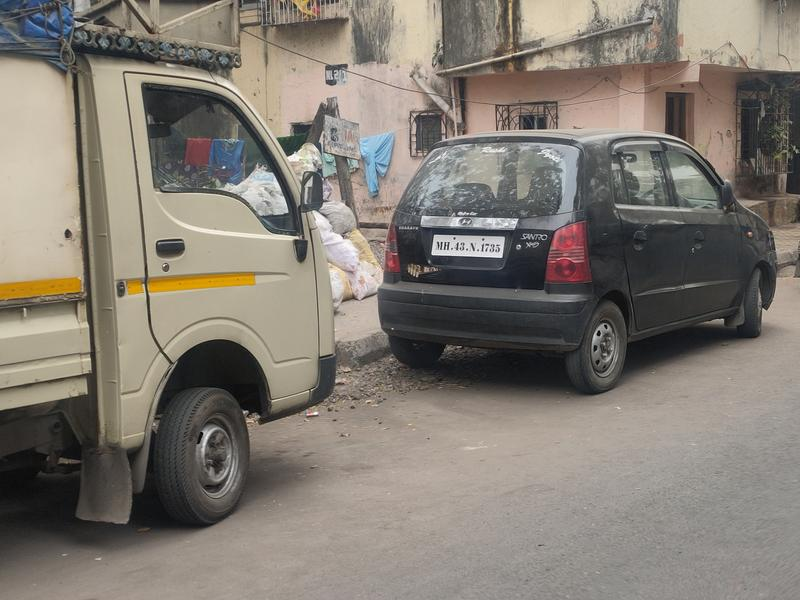license_plate: (427, 225, 513, 272)
